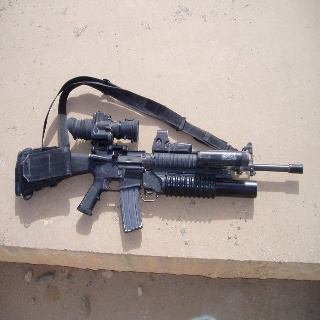rifle: (18, 105, 310, 234)
